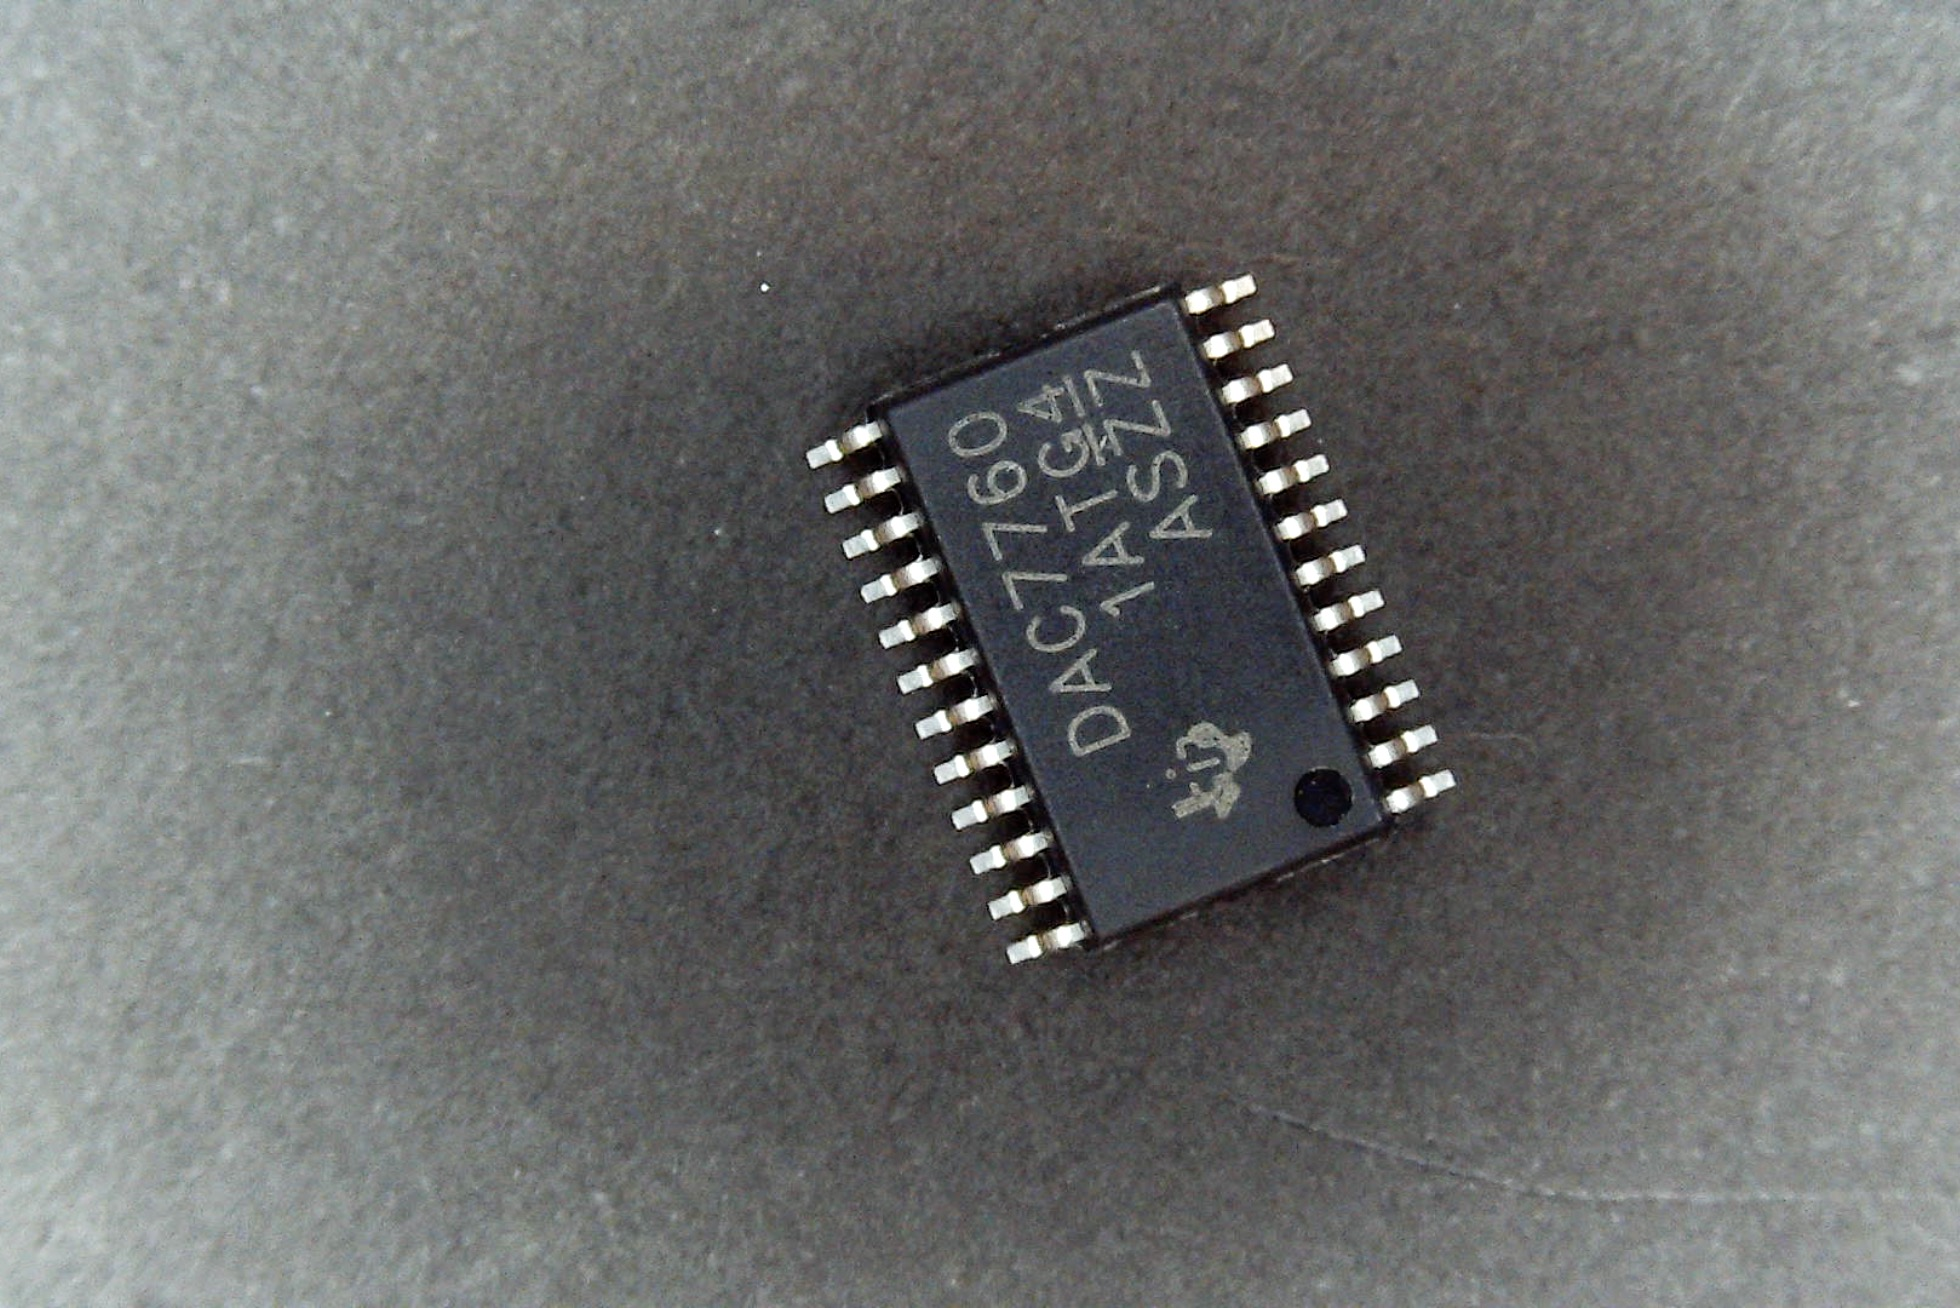bbox: (803, 267, 1461, 972)
